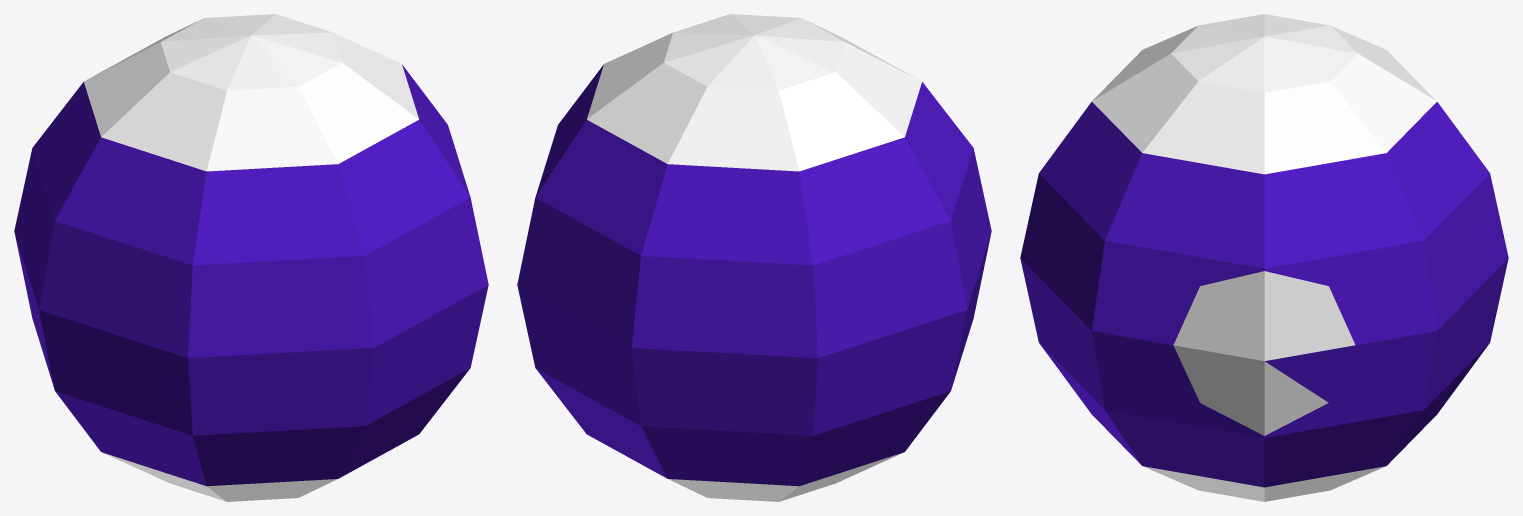
Rendered from roxa2.obj.
3 views of the same model, side by side, from view 1: azimuth 30°, elevation 25°; view 2: azimuth 150°, elevation 25°; view 3: azimuth 270°, elevation 25° (orthographic).
Parts seen in each view (by area): view 1: all_balls.013; view 2: all_balls.013; view 3: all_balls.013.
Part boxes in pixels (x1=…): all_balls.013: x1=14, y1=14, x2=488, y2=501; all_balls.013: x1=517, y1=14, x2=991, y2=501; all_balls.013: x1=1020, y1=14, x2=1508, y2=501.
Size of the model in its own units: 0.3459 by 0.3459 by 0.3459.
